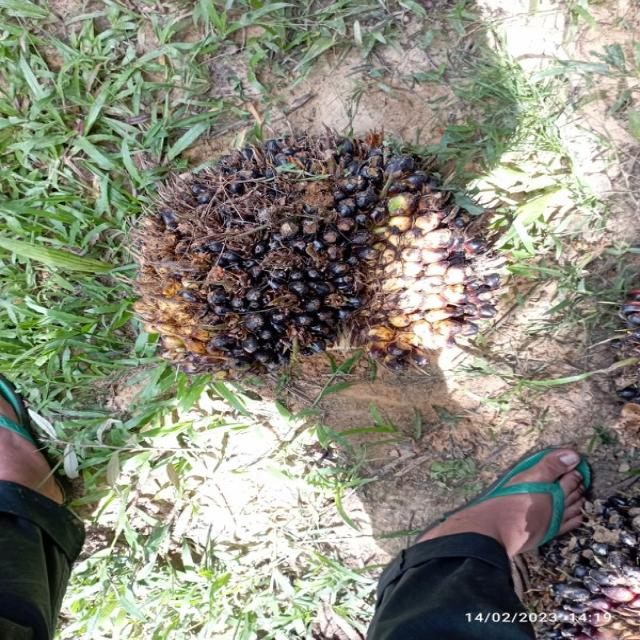fraksi 00: (119, 135, 504, 388)
